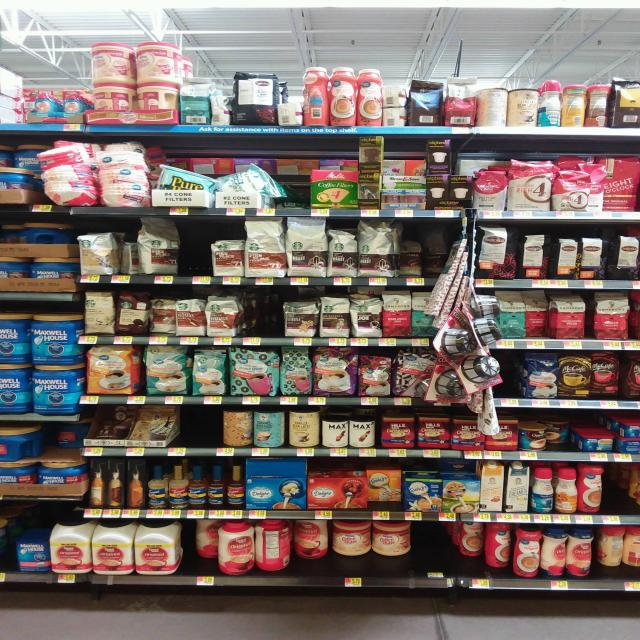void: (418, 522, 452, 588), (178, 406, 218, 459), (606, 464, 638, 526), (241, 294, 277, 347), (183, 218, 206, 285), (281, 153, 305, 213)
